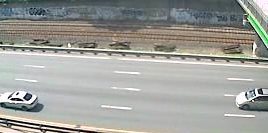car: (1, 89, 41, 112), (233, 86, 268, 111)
